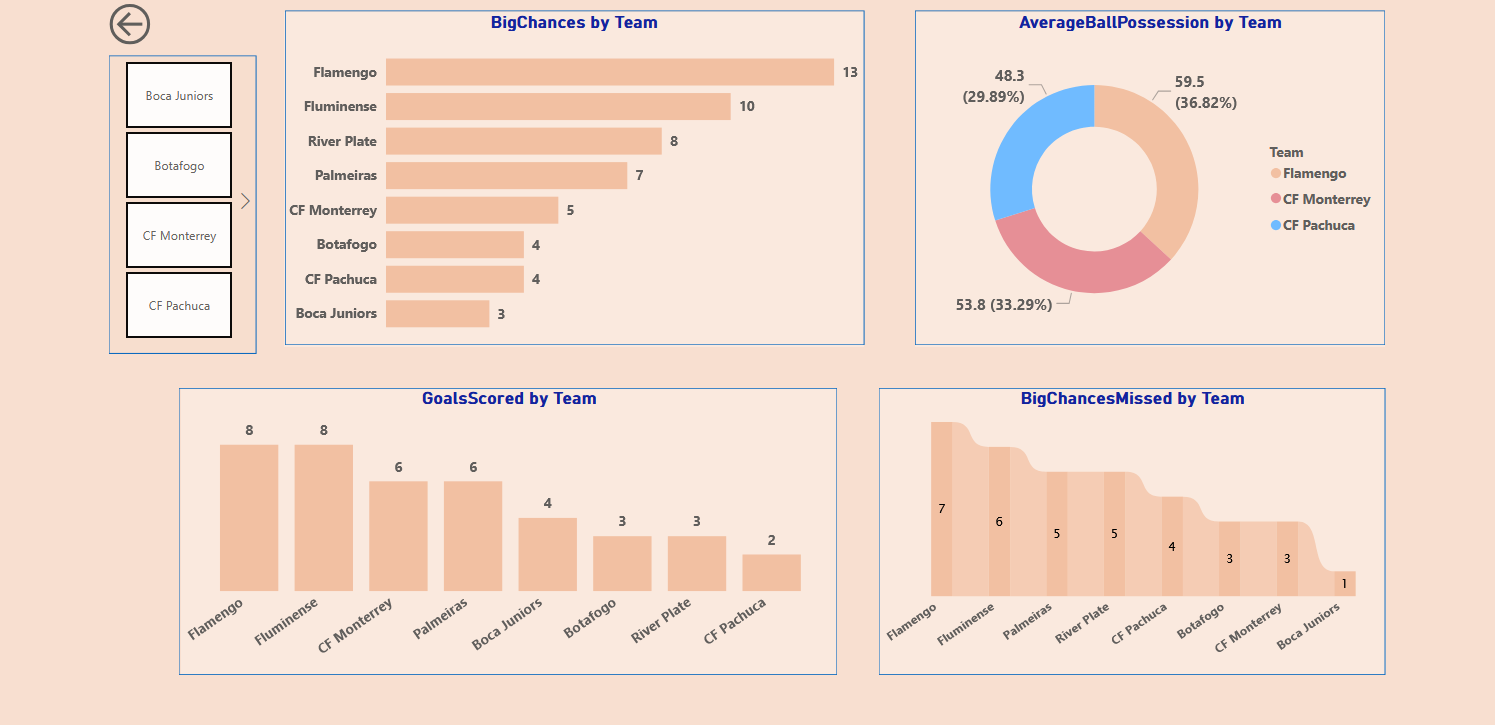

Layout of this report page (visuals, bound fields, positions):
{"tool":"powerbi","page":{"name":"AMERIQUE","canvas":[1280,720],"ordinal":4},"visuals":[{"type":"barChart","title":"BigChances by Team","fields":{"Category":["club_world_top_teams.Team"],"Y":["Sum(club_world_top_teams.bigChances)"]},"box":[188,16.5,565.4,326.6],"z":0},{"type":"clusteredColumnChart","title":"GoalsScored by Team","fields":{"Category":["club_world_top_teams.Team"],"Y":["Sum(club_world_top_teams.goalsScored)"]},"box":[87.8,384.2,639.5,279.9],"z":1000},{"type":"donutChart","title":"AverageBallPossession by Team","fields":{"Category":["club_world_top_teams.Team"],"Y":["Sum(club_world_top_teams.averageBallPossession)"]},"box":[802.7,16.5,458.3,326.6],"z":2000},{"type":"ribbonChart","title":"BigChancesMissed by Team","fields":{"Category":["club_world_top_teams.Team"],"Y":["Sum(club_world_top_teams.bigChancesMissed)"]},"box":[767.1,384.2,494,279.9],"z":3000},{"type":"slicer","fields":{"Values":["club_world_top_teams.Team"]},"box":[8.6,59.9,152.9,282.5],"z":4000},{"type":"actionButton","box":[8.6,0,100.3,59.9],"z":5000},{"type":"shape","box":[85.6,384,642,280],"z":6000},{"type":"shape","box":[766.7,384,494,280],"z":7000},{"type":"shape","box":[188.3,15.9,564.9,326.5],"z":8000},{"type":"shape","box":[802.2,15.9,458.6,326.5],"z":9000},{"type":"shape","box":[17.1,59.9,144.3,291],"z":10000}]}

Visuals, with their boxes on the page's 1280x720 design canvas (x1, y1, x2, y2). These are canvas units, not pixel positions in the 1495x725 screenshot, which may show the page scaled, cropped or inside an application window:
"BigChances by Team" barChart: 188, 16, 753, 343
"GoalsScored by Team" clusteredColumnChart: 88, 384, 727, 664
"AverageBallPossession by Team" donutChart: 803, 16, 1261, 343
"BigChancesMissed by Team" ribbonChart: 767, 384, 1261, 664
slicer - club_world_top_teams.Team: 9, 60, 162, 342
actionButton: 9, 0, 109, 60
shape: 86, 384, 728, 664
shape: 767, 384, 1261, 664
shape: 188, 16, 753, 342
shape: 802, 16, 1261, 342
shape: 17, 60, 161, 351
